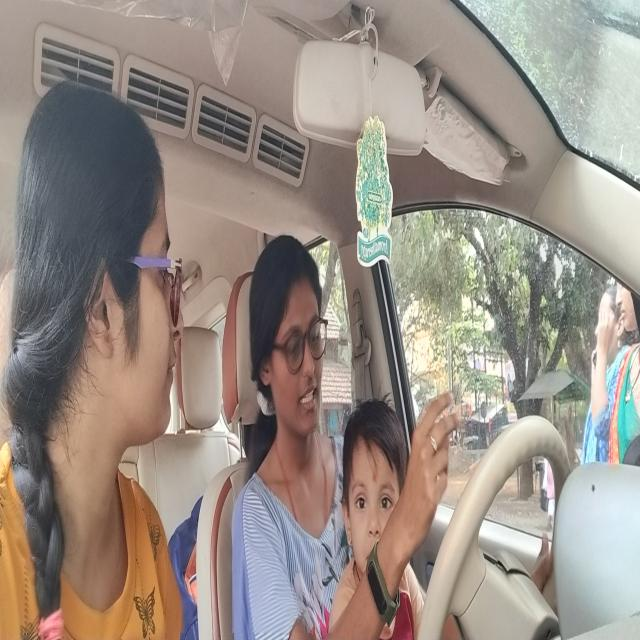child: (340, 388, 411, 572)
person: (11, 63, 190, 521), (248, 231, 328, 438)
